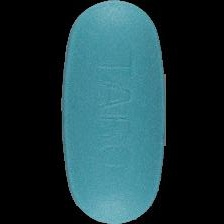51672-4036: (0, 0, 224, 224)
